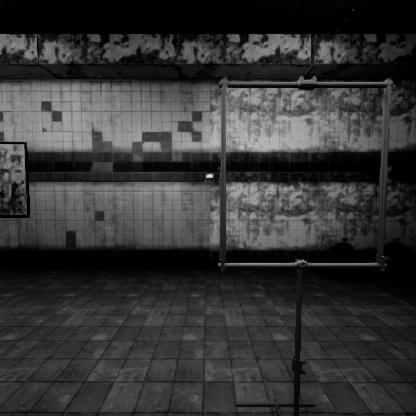gate: (220, 145, 406, 334)
